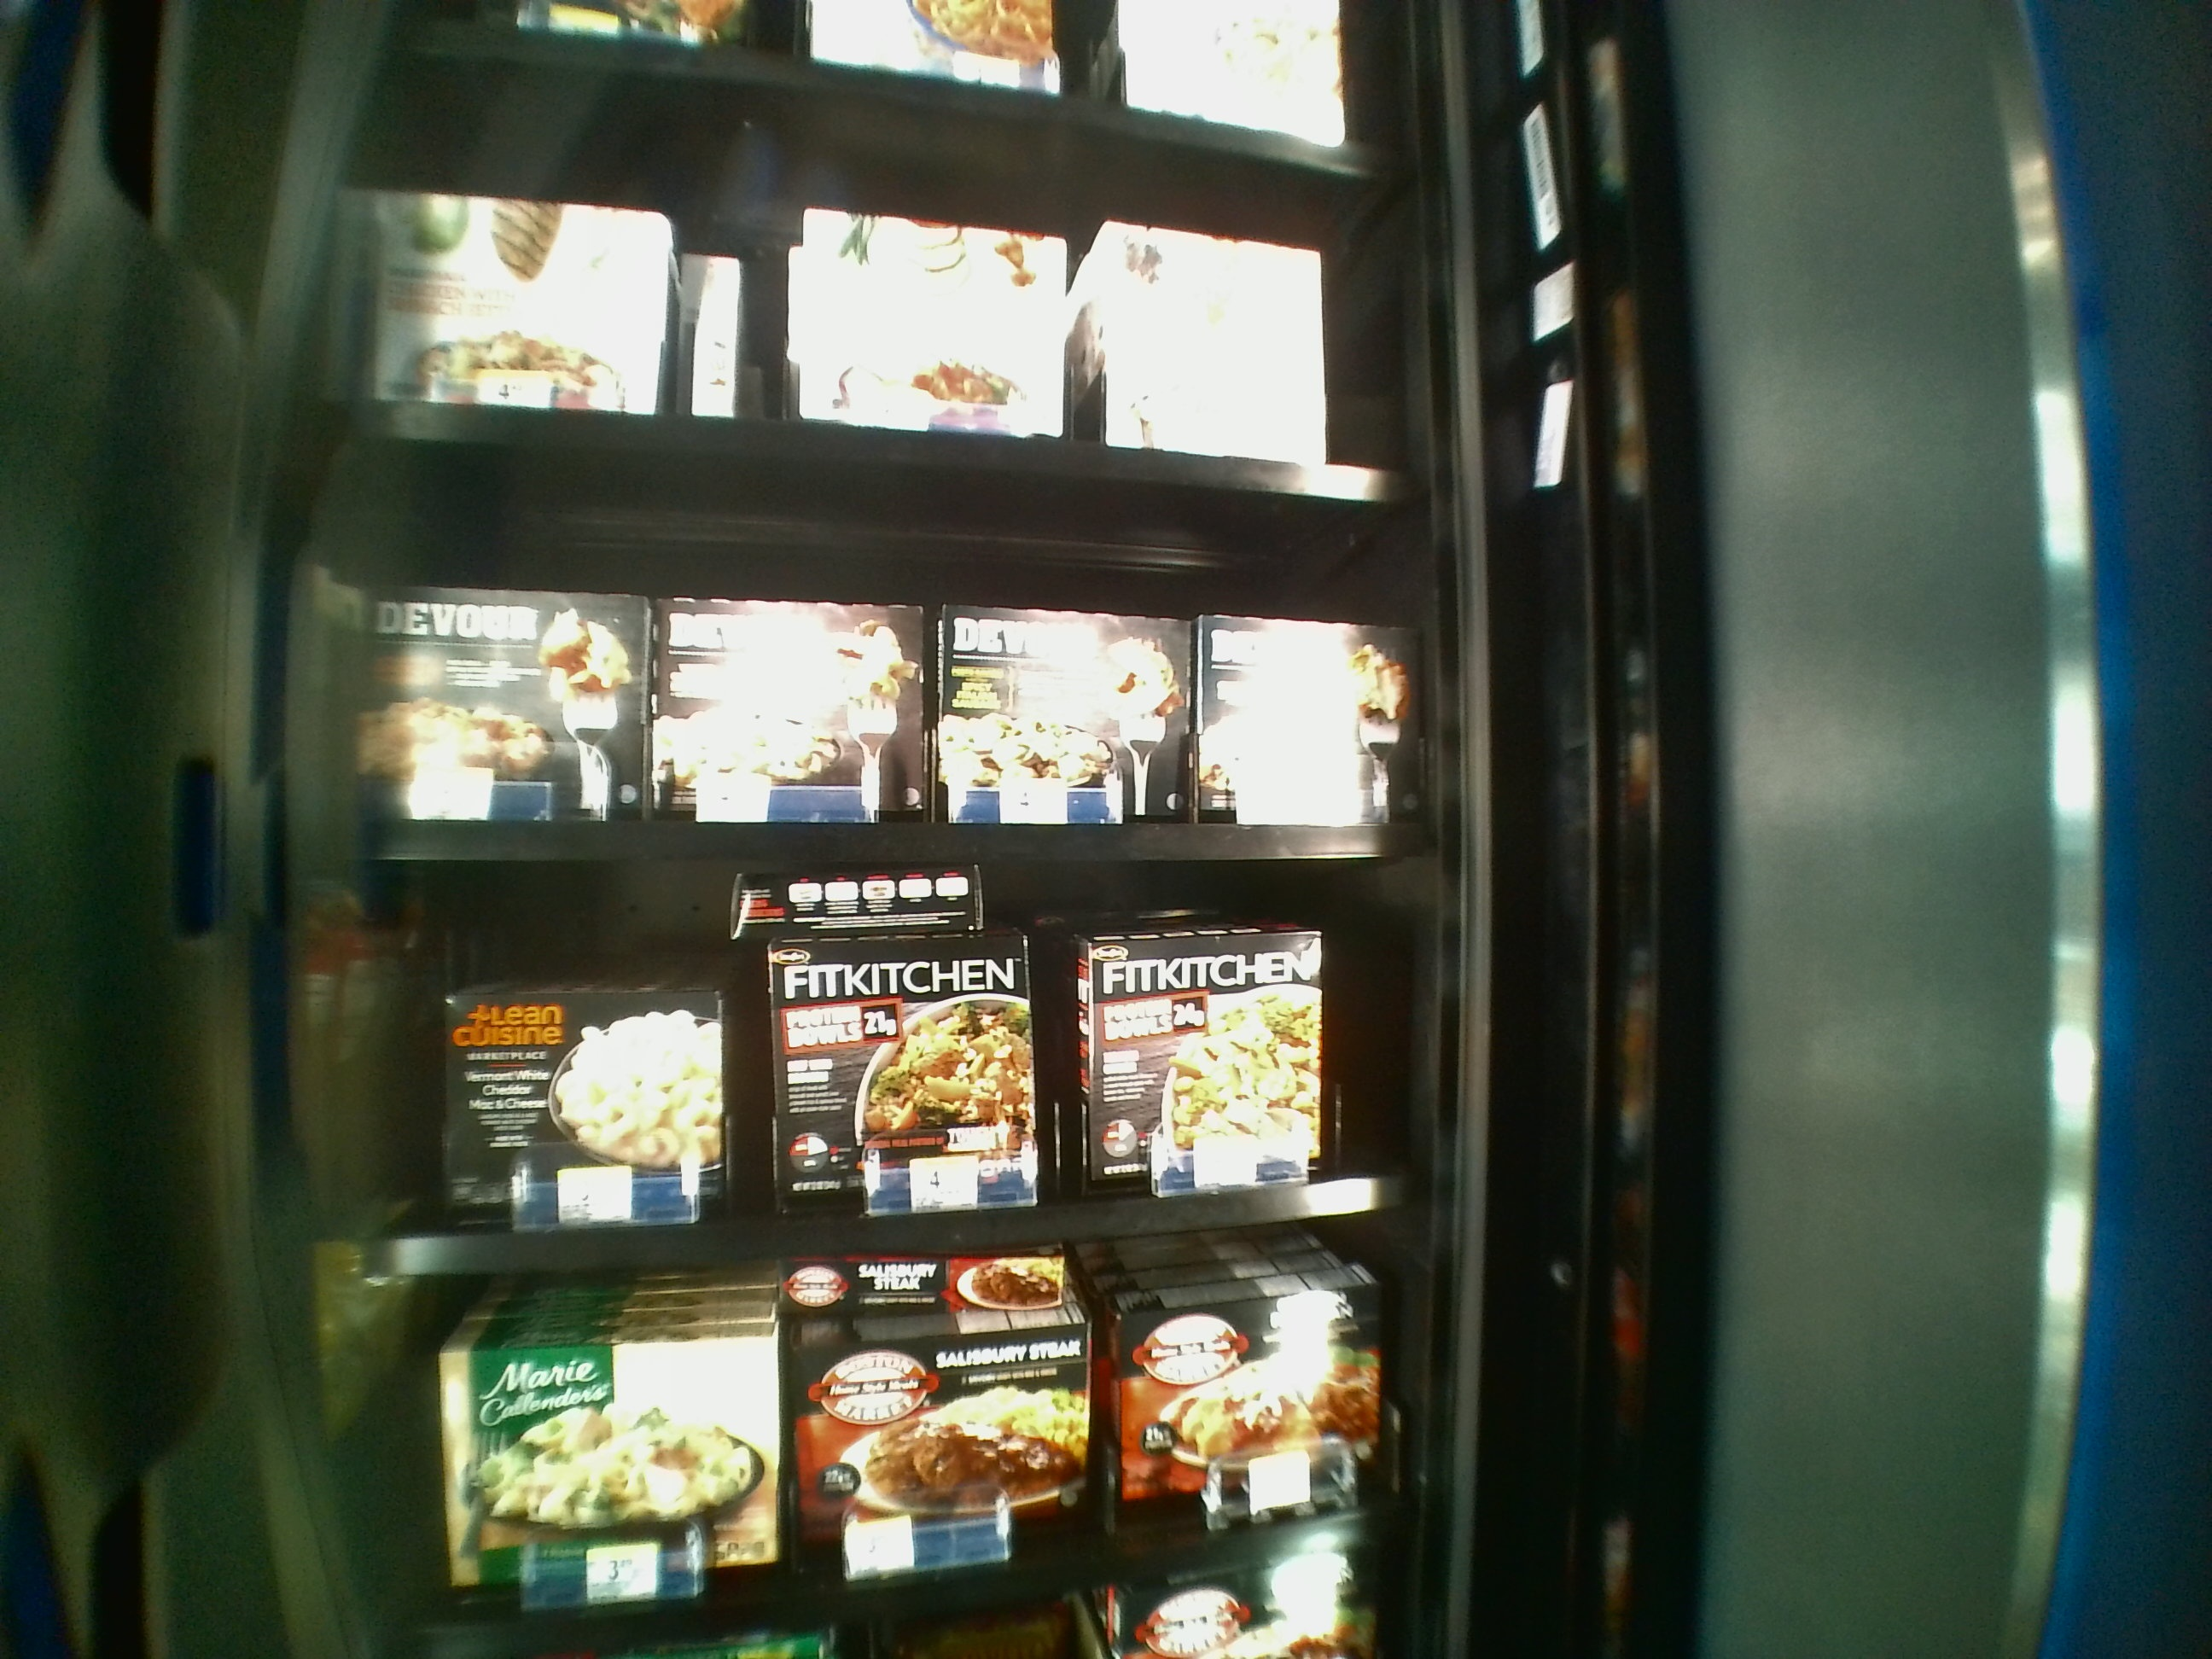shelf: (334, 441, 1444, 863), (334, 877, 1458, 1286)
